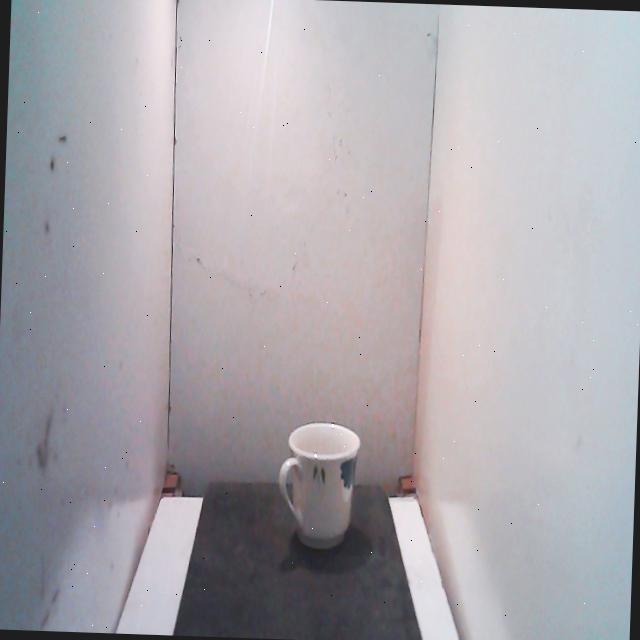vidro: (272, 414, 368, 558)
